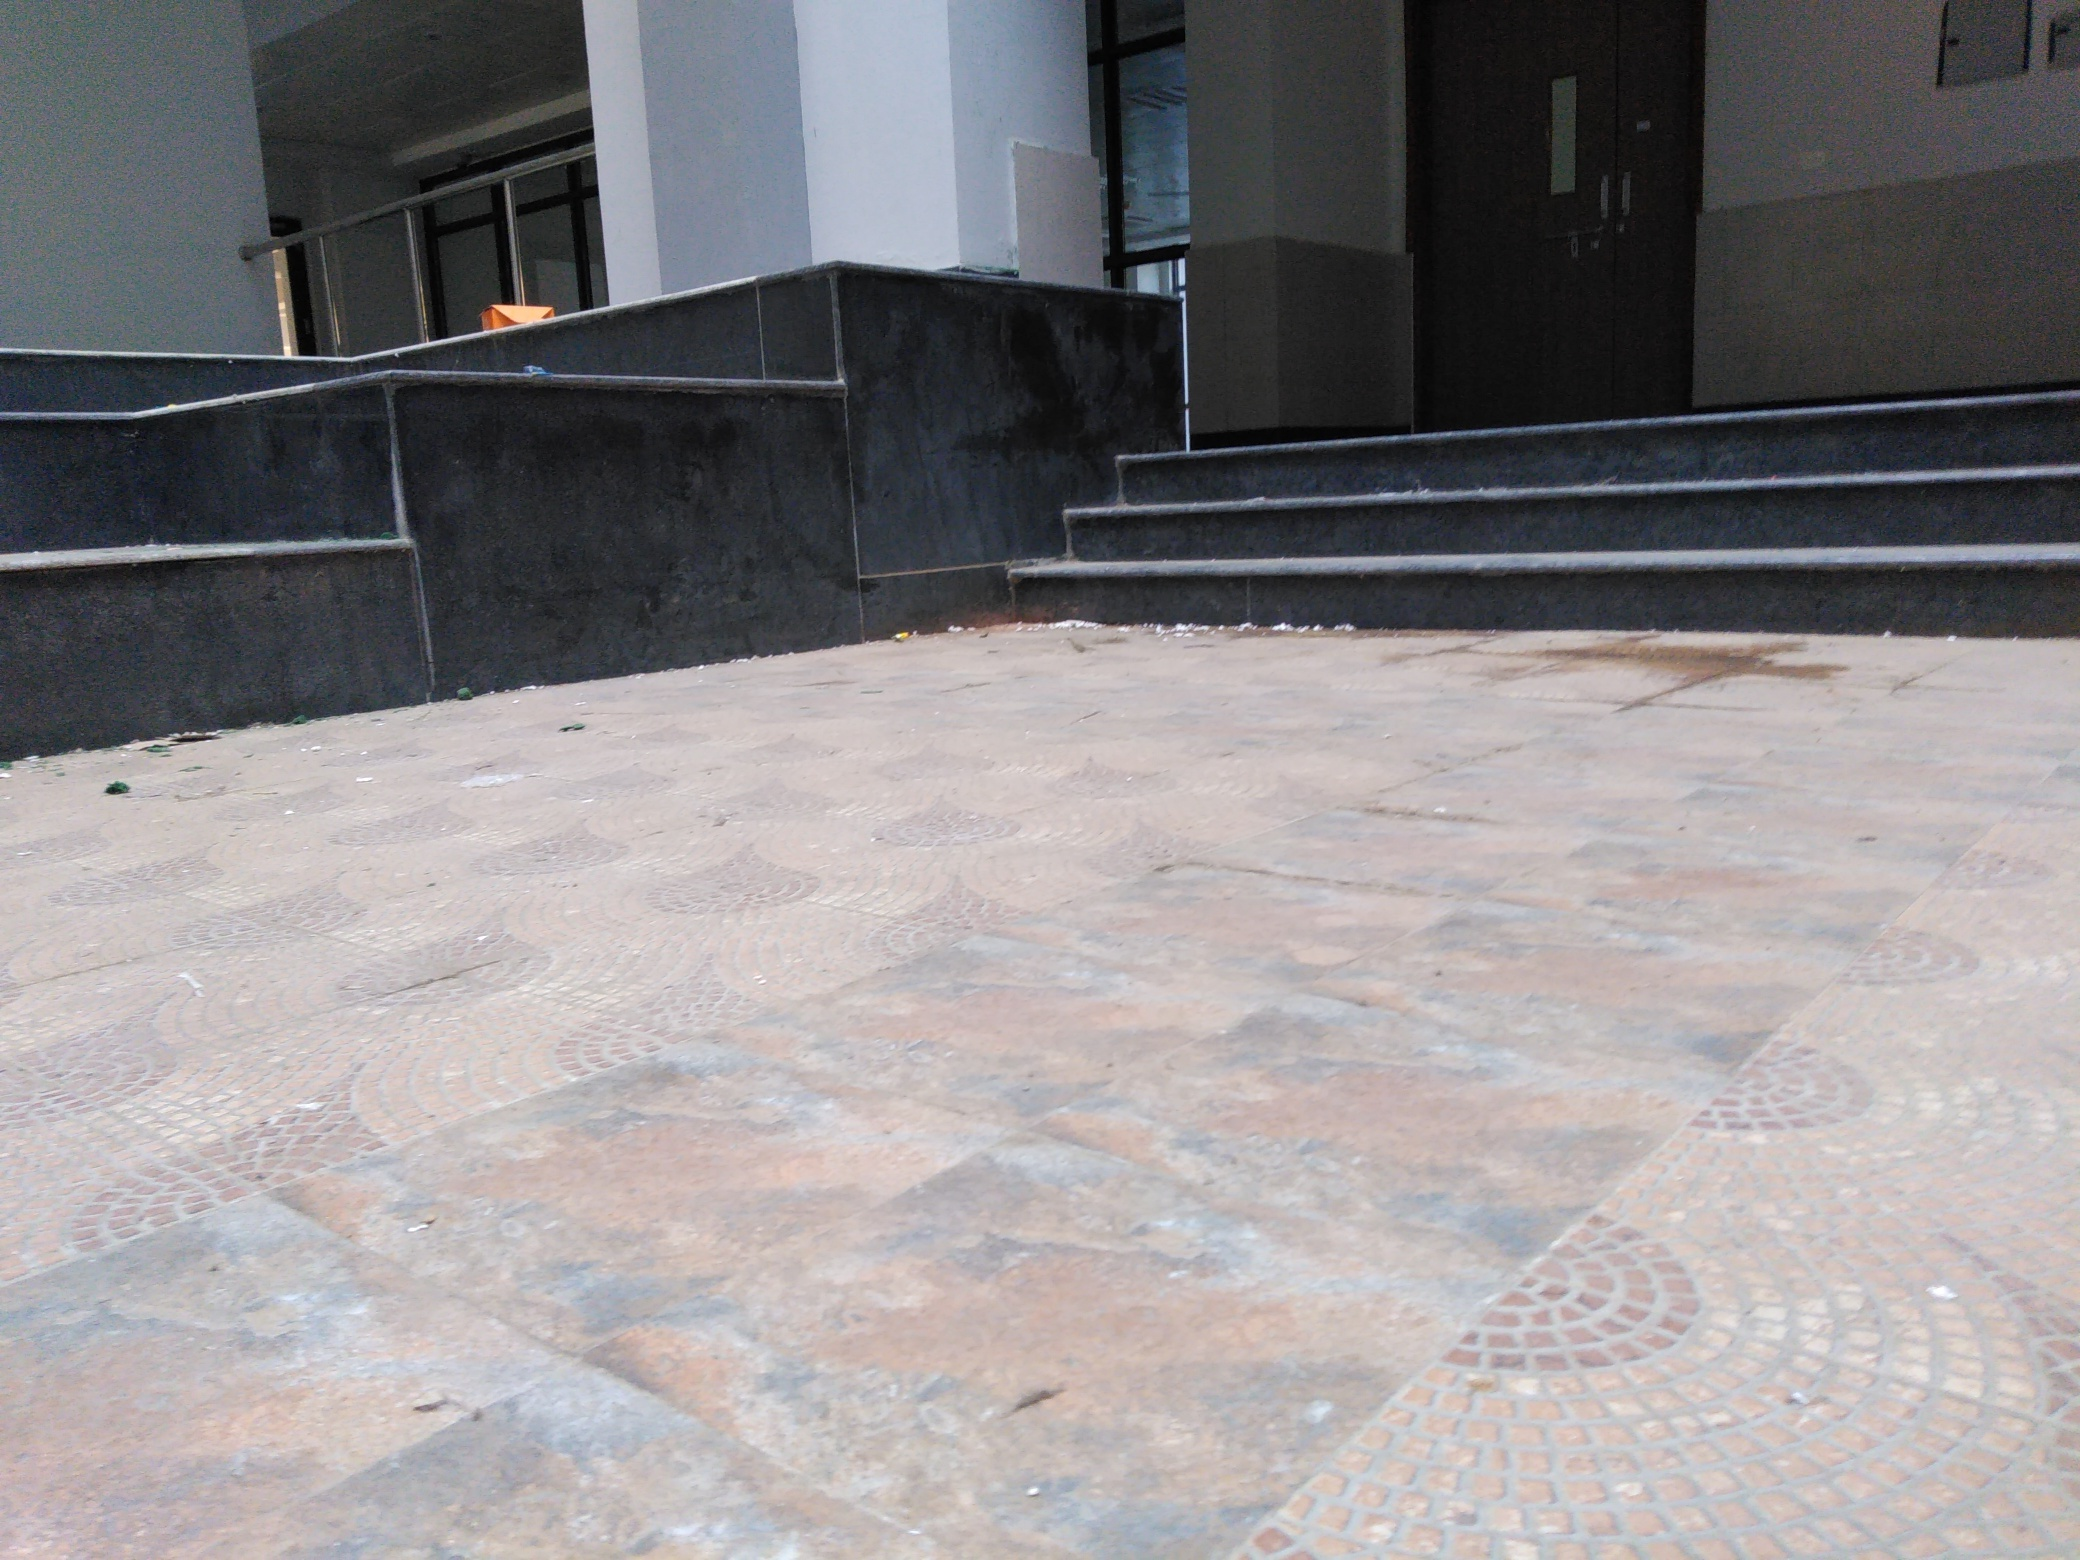stairs_up: (996, 392, 2065, 641)
